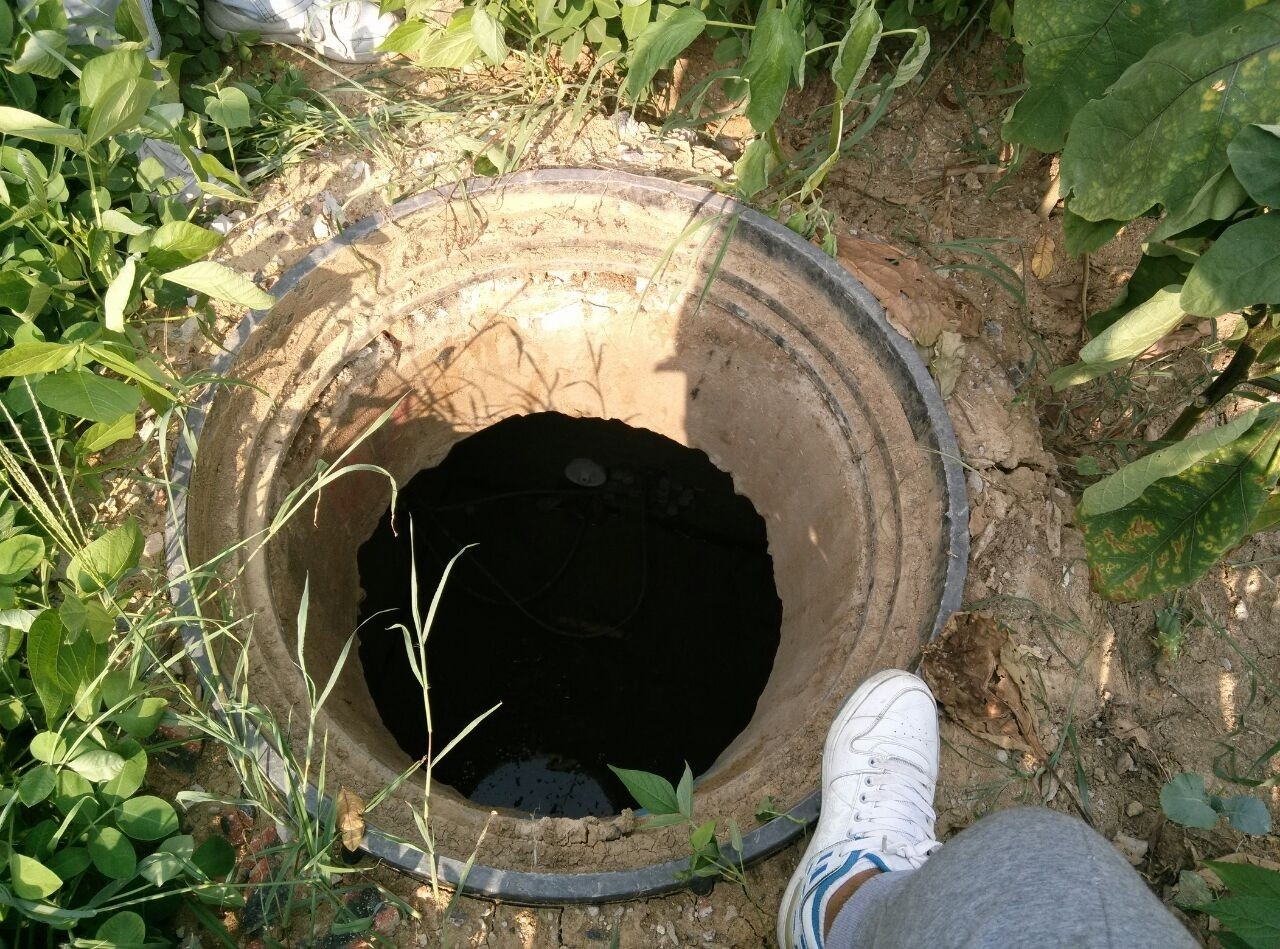lose: (172, 168, 972, 902)
